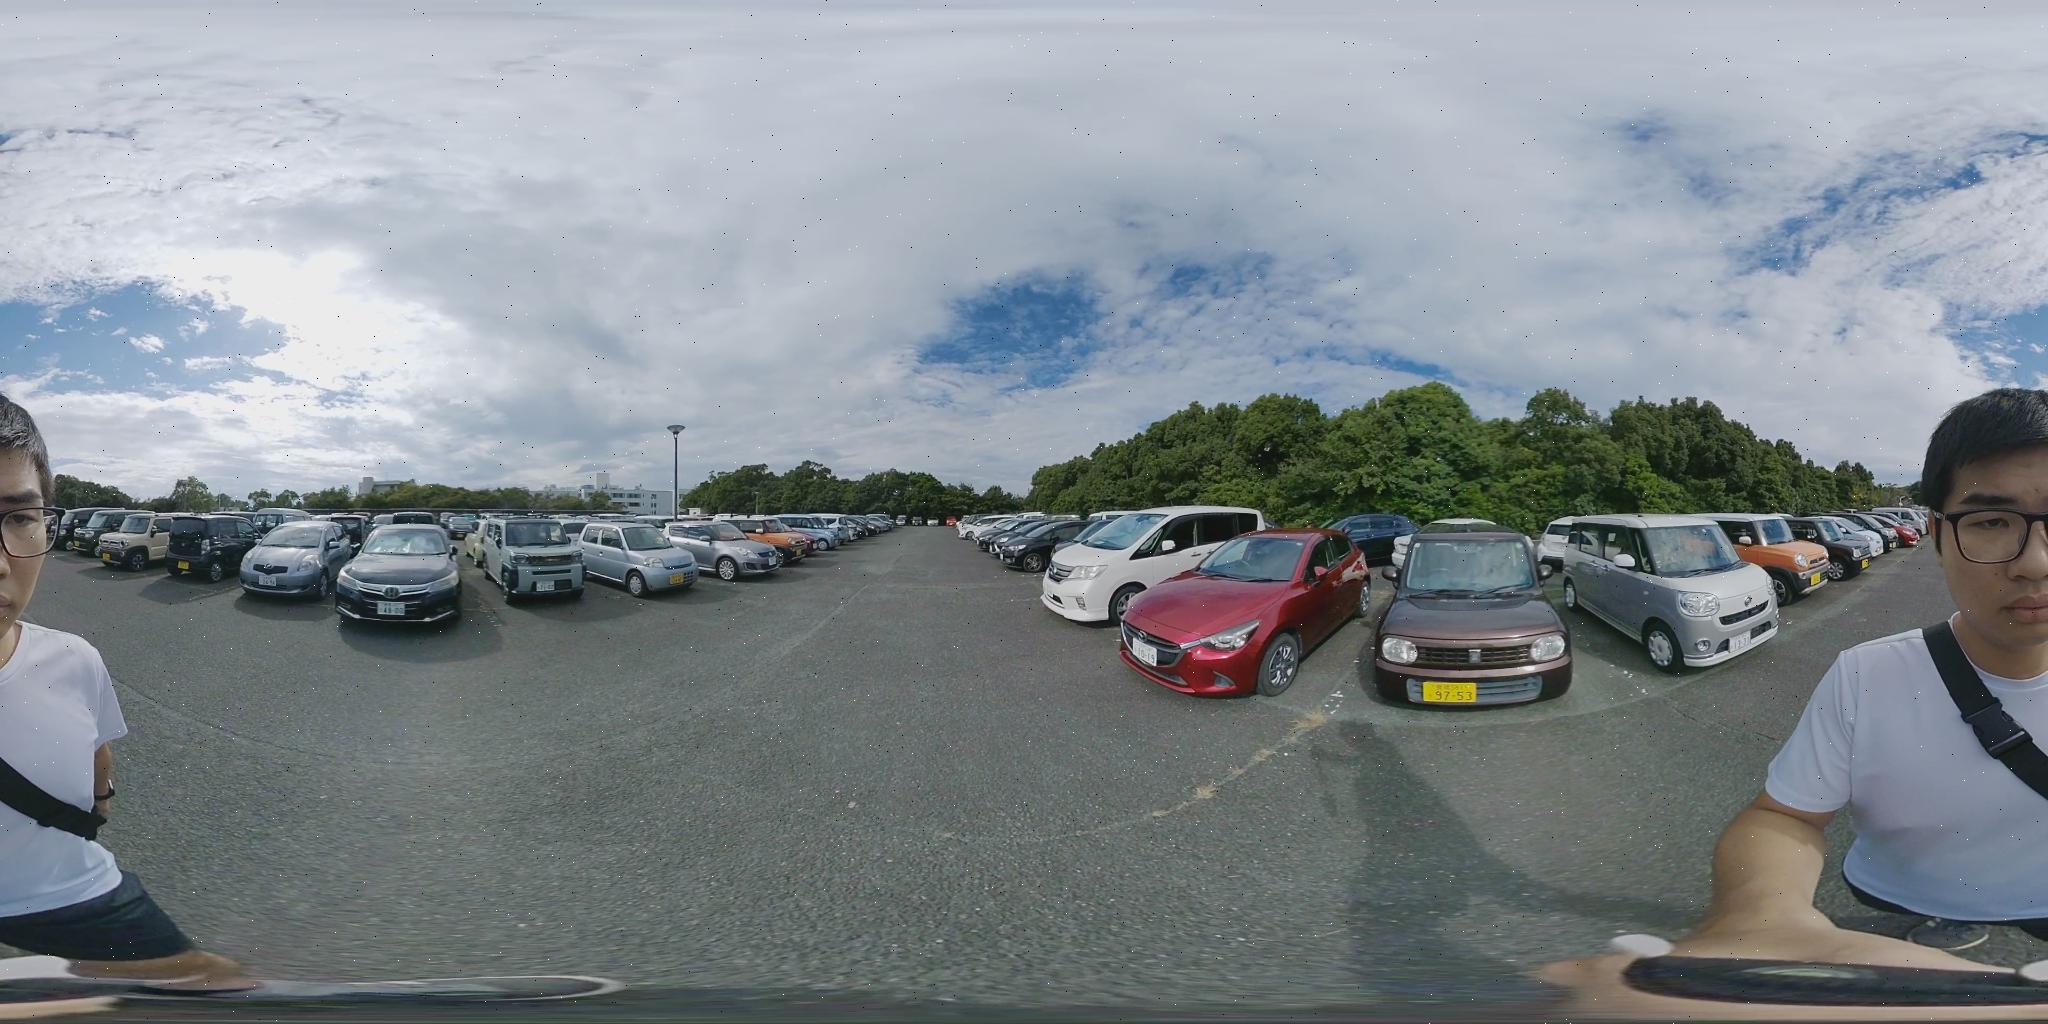car: (1113, 529, 1386, 701), (1545, 512, 1797, 671), (1369, 521, 1578, 707), (1037, 508, 1277, 628), (341, 520, 453, 627), (1701, 515, 1849, 590), (238, 516, 372, 598), (573, 522, 707, 596), (481, 519, 580, 609), (665, 520, 803, 576), (168, 516, 270, 584), (91, 507, 199, 566), (977, 516, 1080, 569), (1869, 511, 1929, 547)
